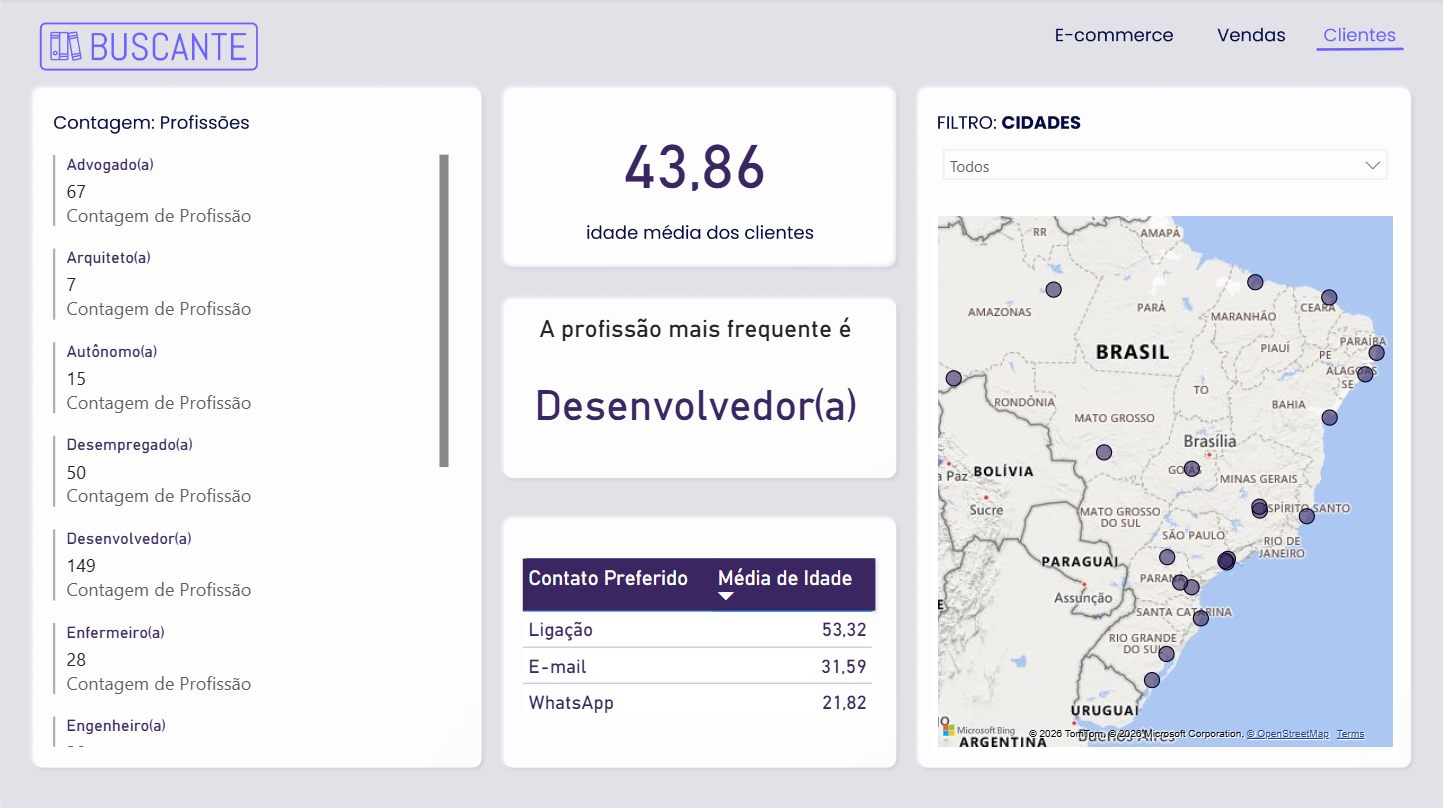

This screenshot's page, from the dashboard's own definition file:
{"tool":"powerbi","page":{"name":"Cliente","canvas":[1280,720],"ordinal":2},"visuals":[{"type":"multiRowCard","fields":{"Values":["Clientes.Profissão","CountNonNull(Clientes.Profissão)"]},"box":[40.7,133.6,361.2,535.5],"z":0},{"type":"card","fields":{"Values":["Avg(Clientes.Idade)"]},"box":[529.7,109.2,171.9,67.4],"z":1},{"type":"card","title":"A profissão mais frequente é","fields":{"Values":["Min(Clientes.Profissão)"]},"box":[456.5,279.9,318.3,131.3],"z":2},{"type":"map","fields":{"X":["Clientes.Longitude"],"Y":["Clientes.Latitude"]},"box":[825.8,188.2,413.5,480.9],"z":3},{"type":"slicer","fields":{"Values":["Clientes.Cidade"]},"box":[825.8,124.3,413.5,63.9],"z":4},{"type":"tableEx","fields":{"Values":["Clientes.Contato Preferido","Avg(Clientes.Idade)"]},"box":[456.5,492.5,331,159.1],"z":5},{"type":"actionButton","box":[1058.1,12.8,99.9,43],"z":6},{"type":"actionButton","box":[922.3,12.8,130.1,43],"z":7}]}

Visuals, with their boxes in screenshot pixels (x1, y1, x2, y2), scaled from the page's 1280x720 canvas onto the 1443x808 screenshot:
multiRowCard - Clientes.Profissão x CountNonNull(Clientes.Profissão): box=[46, 150, 453, 751]
card - Avg(Clientes.Idade): box=[597, 123, 791, 198]
"A profissão mais frequente é" card: box=[515, 314, 873, 461]
map - Clientes.Longitude x Clientes.Latitude: box=[931, 211, 1397, 751]
slicer - Clientes.Cidade: box=[931, 139, 1397, 211]
tableEx - Clientes.Contato Preferido x Avg(Clientes.Idade): box=[515, 553, 888, 731]
actionButton: box=[1193, 14, 1305, 63]
actionButton: box=[1040, 14, 1186, 63]
